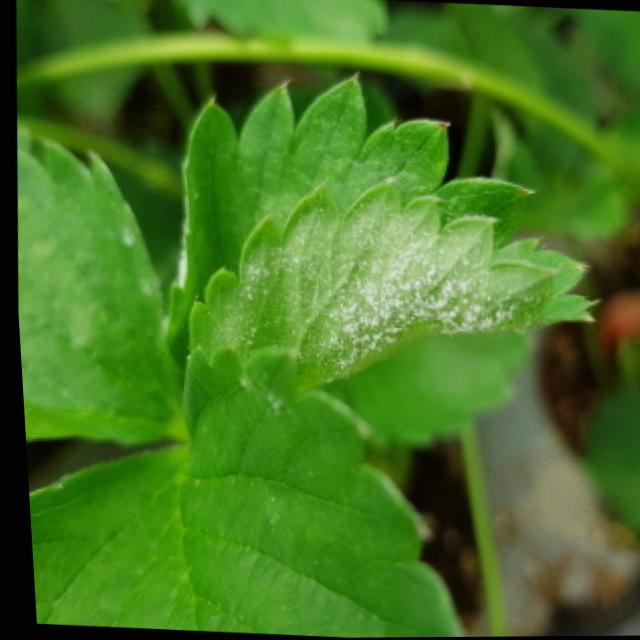Powdery Mildew Leaf: (165, 73, 601, 388), (15, 138, 176, 449)
